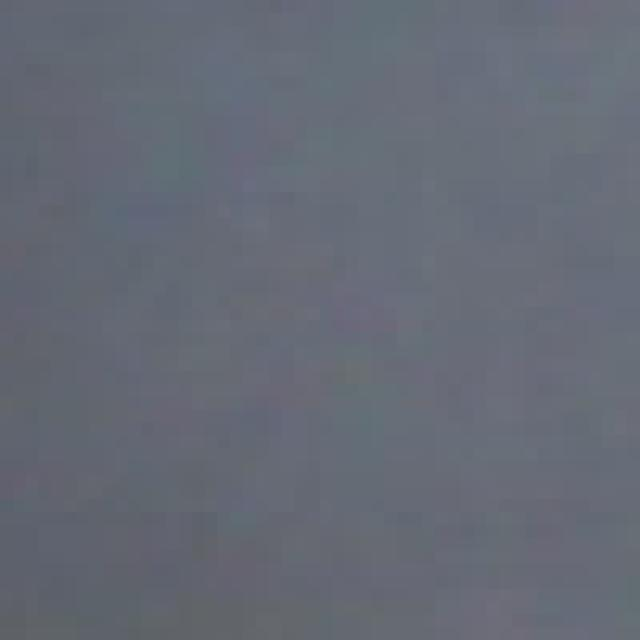no_fire: (1, 20, 630, 561)
